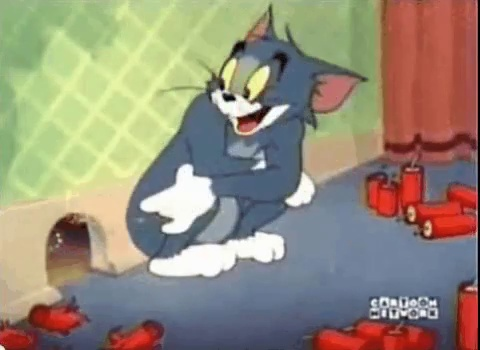tom: (125, 3, 372, 281)
